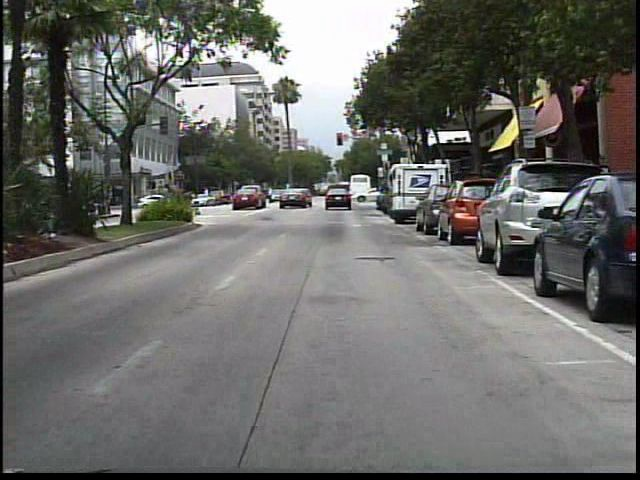person: (264, 181, 279, 206), (281, 183, 295, 205)
